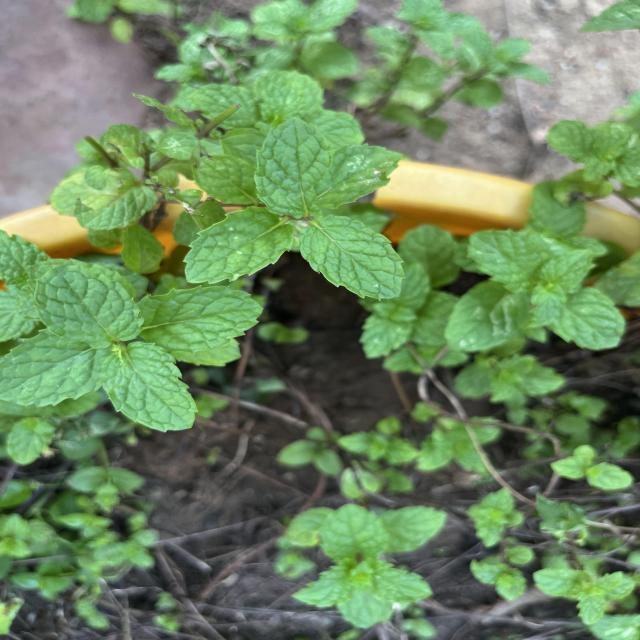Mentha spicata: (33, 260, 146, 350), (298, 214, 406, 302), (98, 341, 200, 434), (182, 206, 294, 286), (137, 284, 264, 354), (252, 115, 334, 218)
